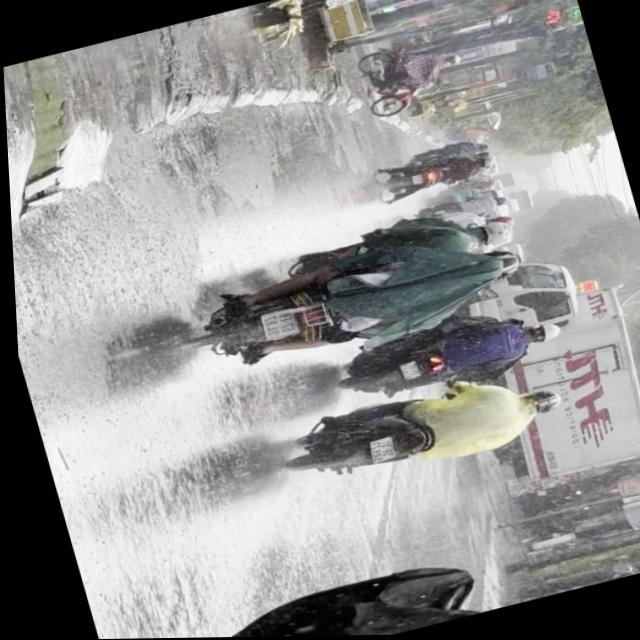helmet: (519, 387, 562, 419), (521, 320, 560, 347)
licenseplate: (157, 202, 538, 391), (263, 357, 574, 503), (324, 299, 569, 411), (469, 245, 523, 288)
nohelmet: (257, 308, 296, 340), (363, 436, 393, 462), (397, 361, 418, 381)
